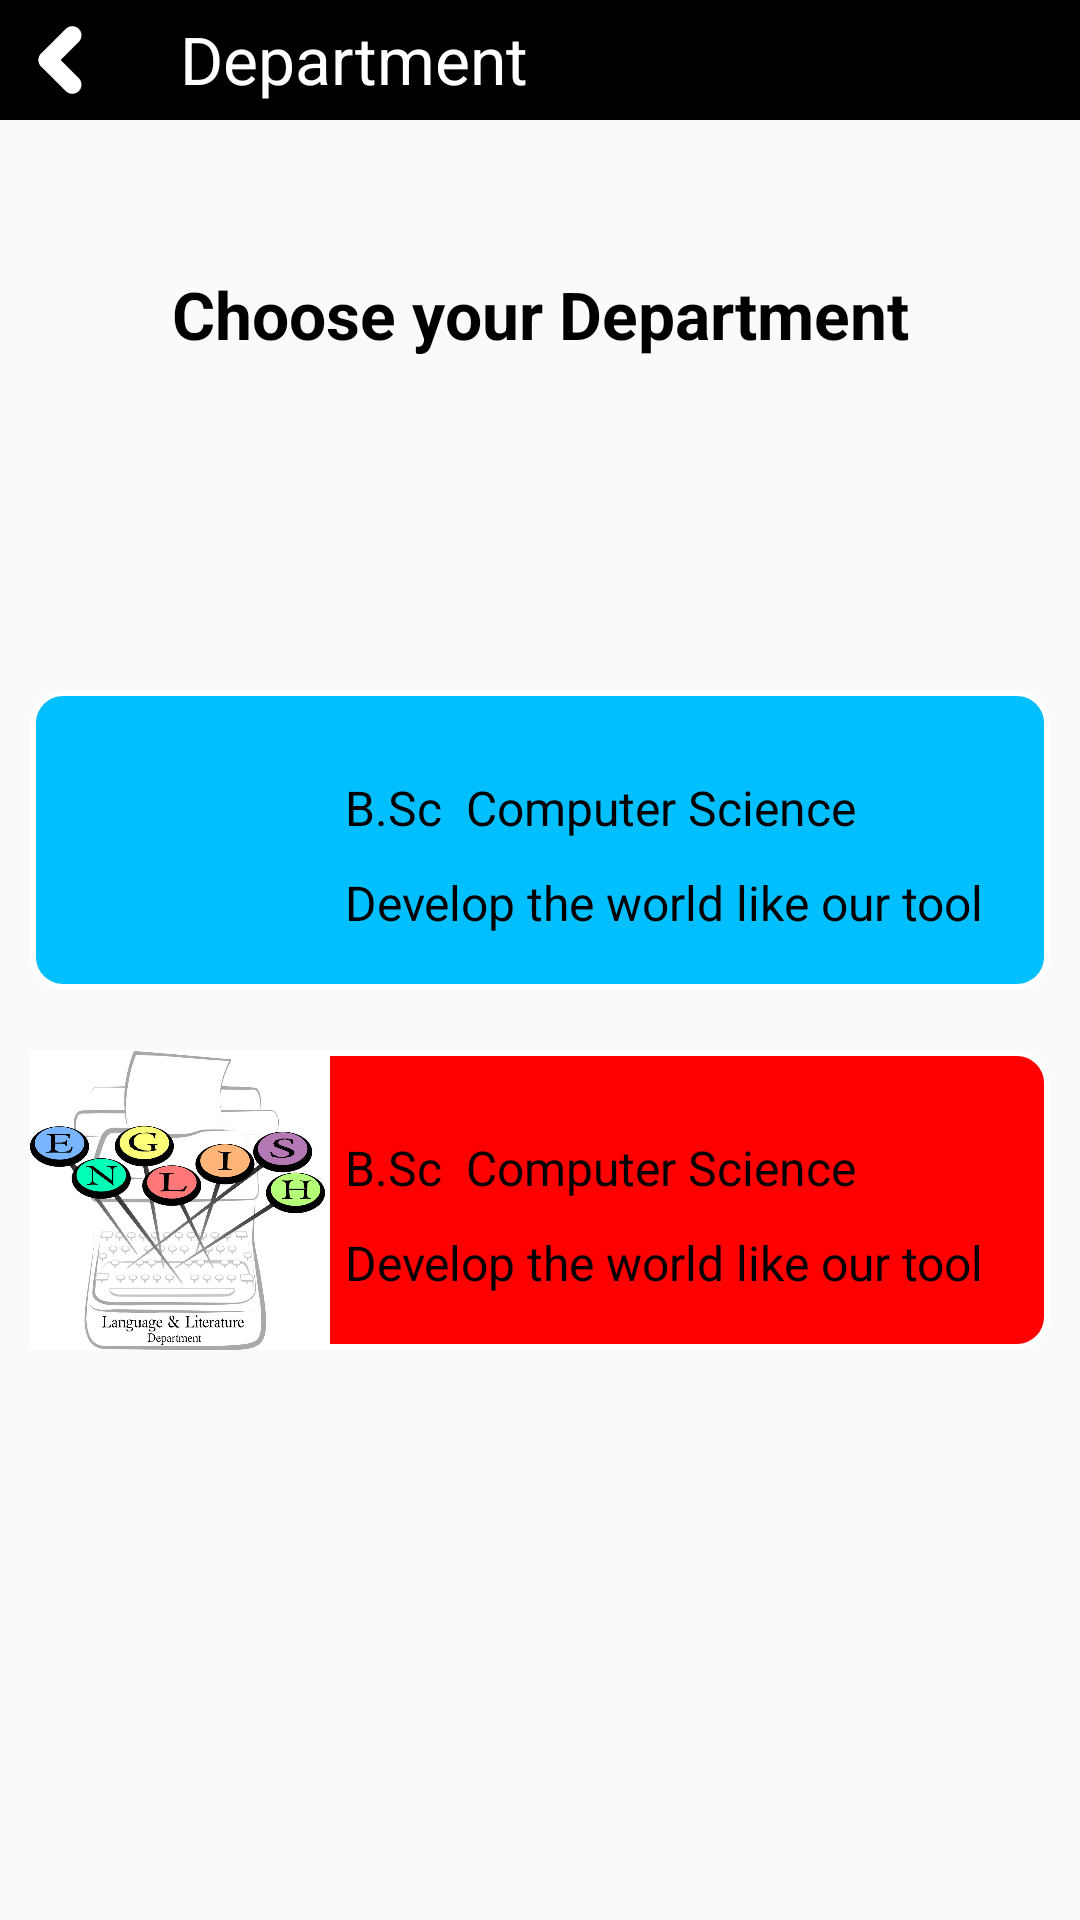

Where icons sit on this 1080×1920 app screen, as box(x1, y1, x2, y2):
back: box(38, 26, 82, 94)
